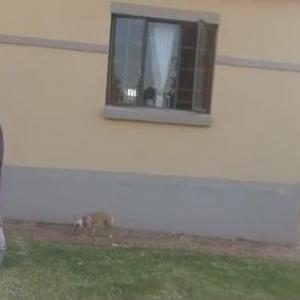follow: (0, 26, 15, 299)
null: (68, 206, 128, 241)
